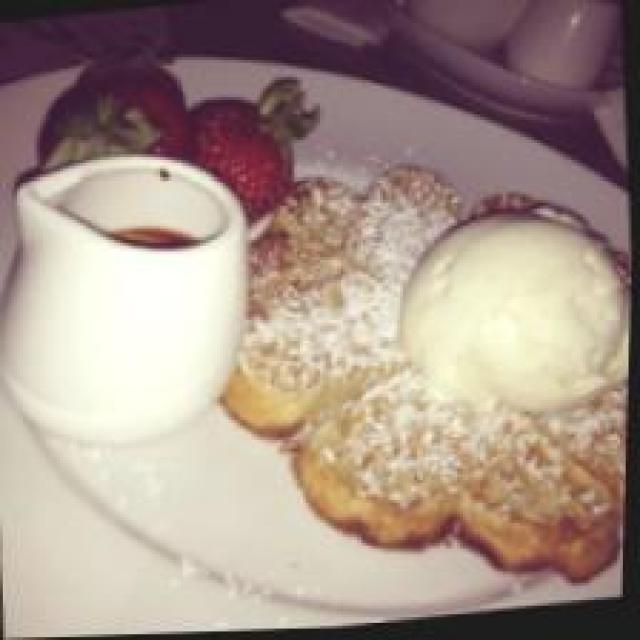Waffles: (217, 133, 637, 616)
